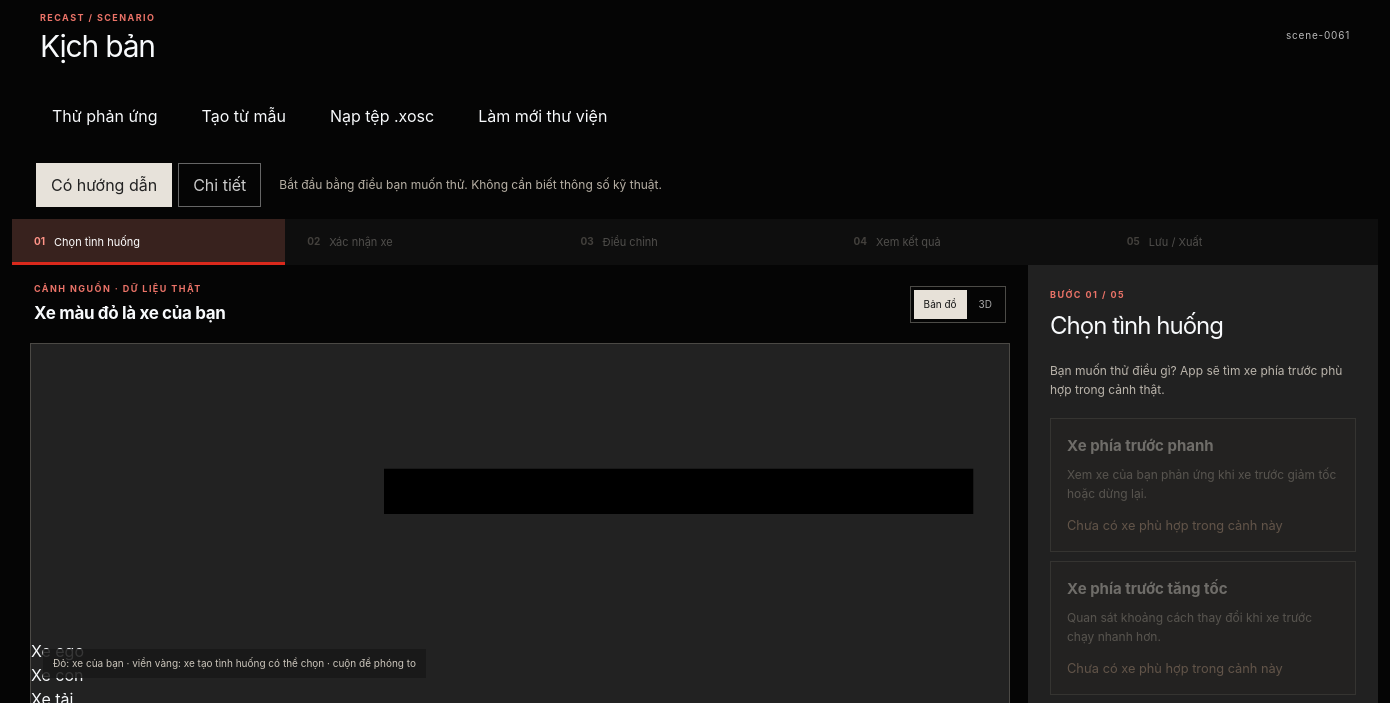
Test: explains unavailable guided situations and keeps expert authoring accessible
(page scrolled)
Expected: the button "Xe phía trước phanh" is disabled, [1050,418,1356,552]
Click the button "Chi tiết" at (220, 184), box [178,162,261,206]
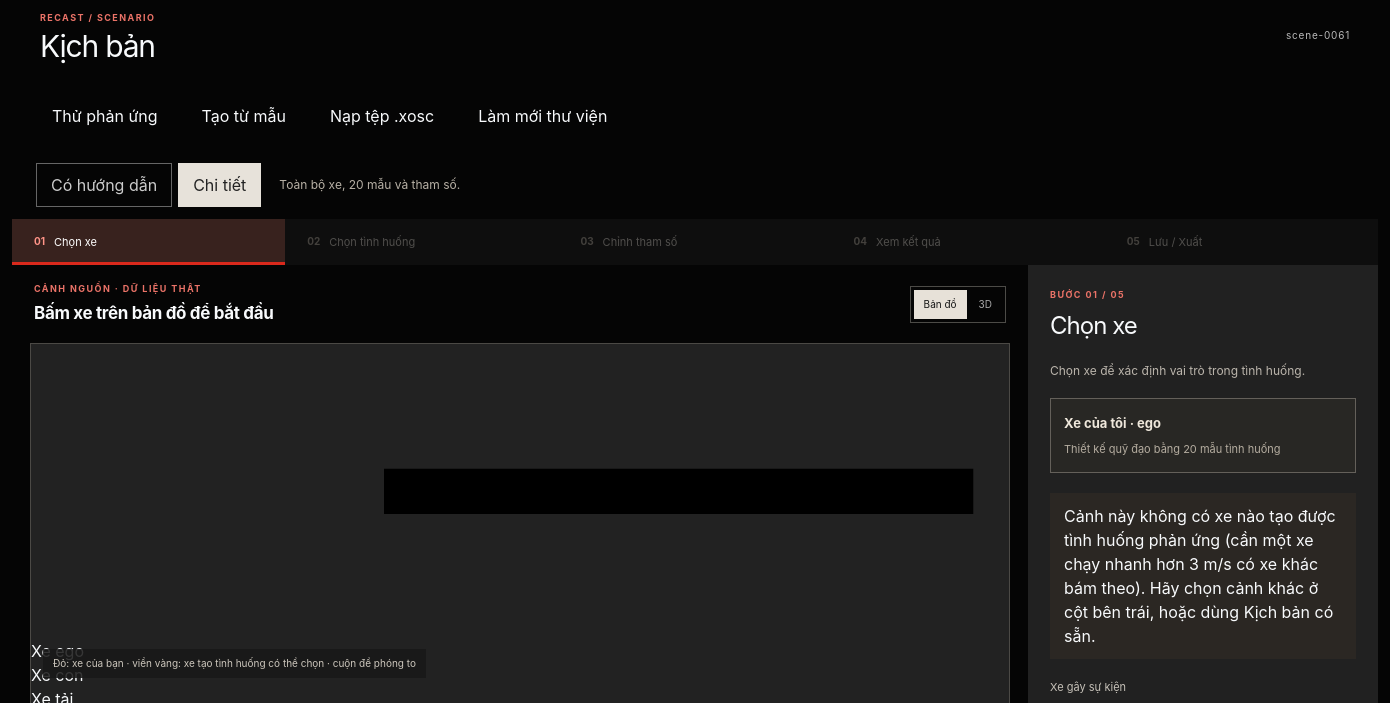
Expected: the button "Xe của tôi · ego Thiết kế quỹ đạo bằng 20 mẫu tình huống" is shown, [1050,398,1356,473]
